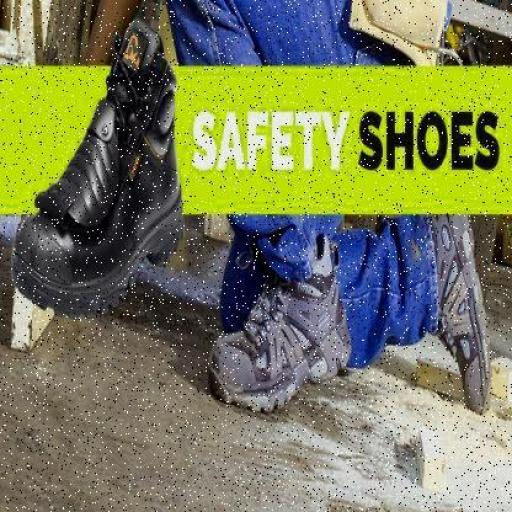safety_shoe: (199, 263, 354, 421), (423, 216, 495, 420)
